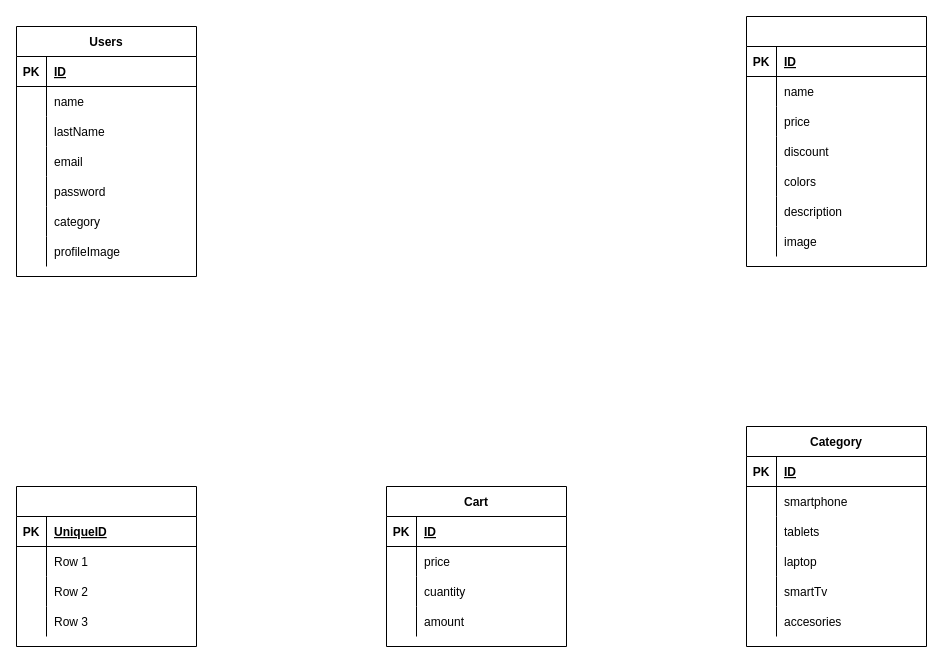
Image size: 943x663. Some labels were removed from this diagram. Here are the shapes that lost their labels. From the top down, the box of each, then its label:
(746, 16, 926, 266): Products
(16, 486, 196, 646): Table
